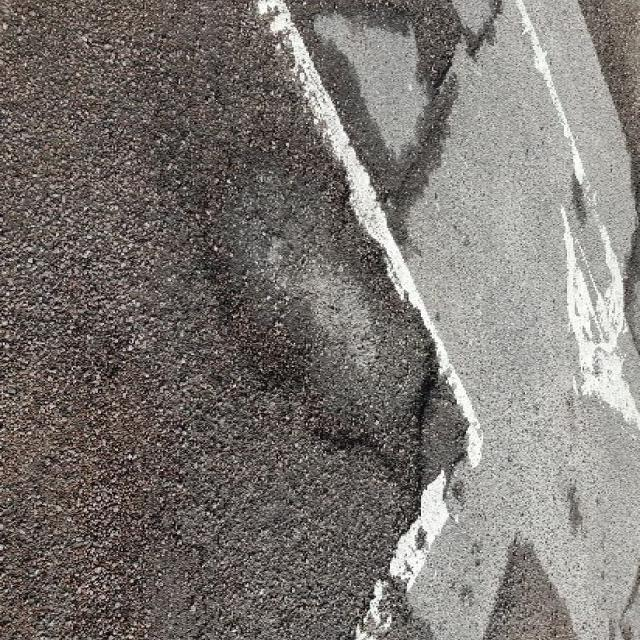Pothole: (181, 157, 457, 496)
